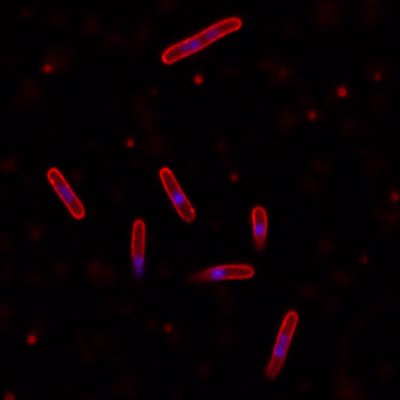Nalidixate: (160, 16, 242, 66), (47, 167, 86, 220), (159, 168, 196, 223)
Oblique: (265, 310, 299, 379), (190, 263, 255, 283), (130, 217, 146, 280), (252, 206, 268, 253)
Vesicle: (26, 334, 38, 345), (337, 86, 348, 98), (42, 63, 53, 74), (193, 74, 203, 85), (371, 73, 381, 83), (307, 110, 316, 120), (390, 192, 399, 201), (164, 325, 172, 334), (126, 139, 134, 148), (230, 173, 238, 182), (359, 255, 367, 264)
